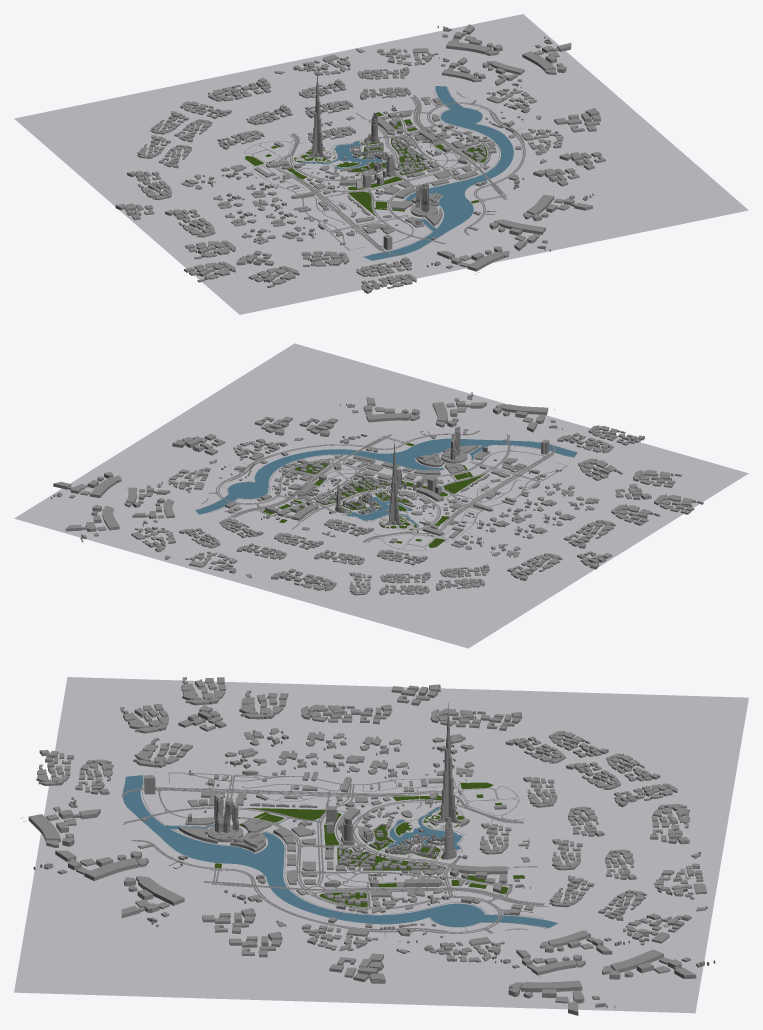
The model's file is 25H_ground.glb.
The picture shows the model from 3 angles, top to bottom: view 1: azimuth 30°, elevation 25°; view 2: azimuth 150°, elevation 25°; view 3: azimuth 270°, elevation 25°; orthographic projection. The views are drawn at different scales.
Visible parts, largest first — view 1: Ground, Buildings, Road, River, Green; view 2: Ground, Buildings, Road, River, Green; view 3: Ground, Buildings, Road, River, Green.
Part boxes in pixels (x1,y1,x2,y2): Ground: (14,14,748,314); Buildings: (115,24,605,293); Road: (244,87,525,256); River: (299,86,513,260); Green: (245,112,487,215); Ground: (14,343,748,648); Buildings: (51,392,703,595); Road: (195,430,574,550); River: (195,438,577,525); Green: (263,443,486,547); Ground: (14,677,748,1013); Buildings: (20,677,715,1015); Road: (121,770,548,933); River: (123,775,557,927); Green: (214,782,524,906).
Size of the model in its own units: 913 by 150 by 837.
Materials: 5 (1 with a texture image).
